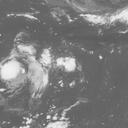cyclone: (1, 59, 25, 82)
